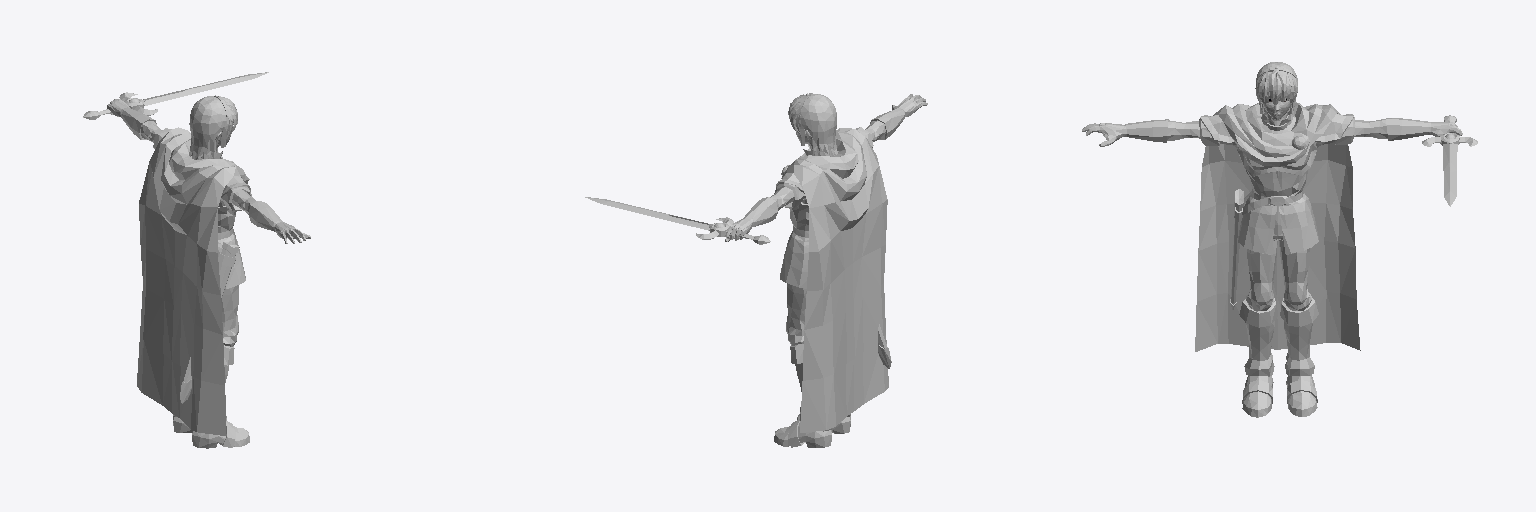
3 renders of one model, left to right at view 1: azimuth 30°, elevation 25°; view 2: azimuth 150°, elevation 25°; view 3: azimuth 270°, elevation 25°, orthographic.
Size of the model in its own units: 121 by 197 by 208.
11 materials, 3 textured.